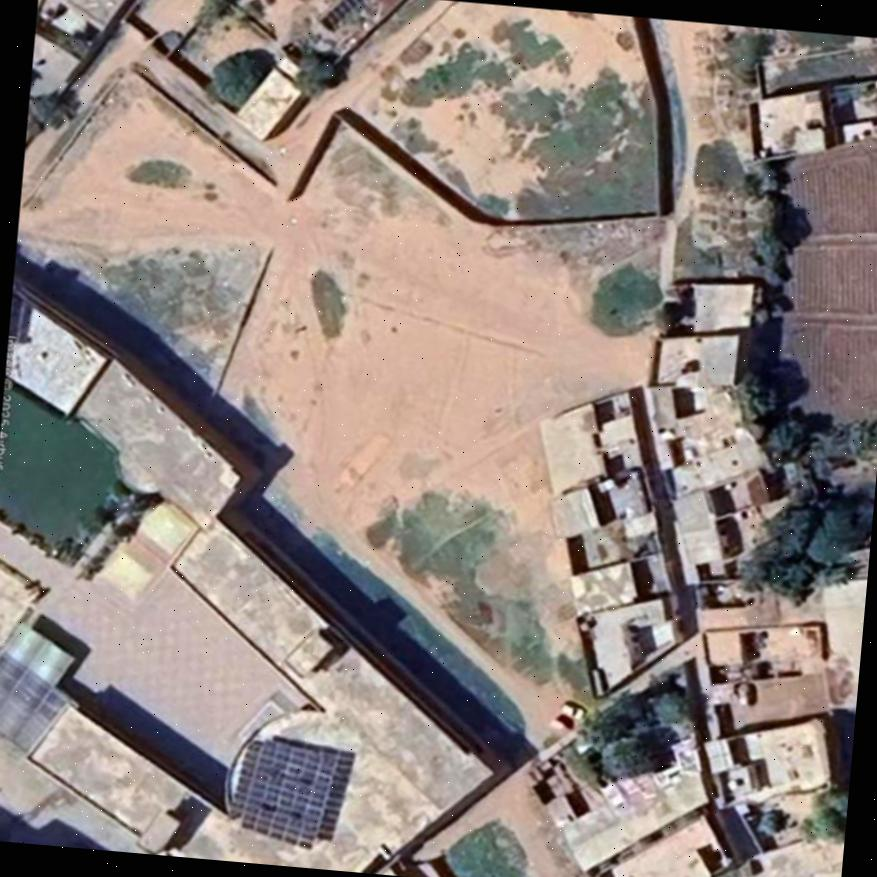Solarpanel: (229, 737, 337, 842)
